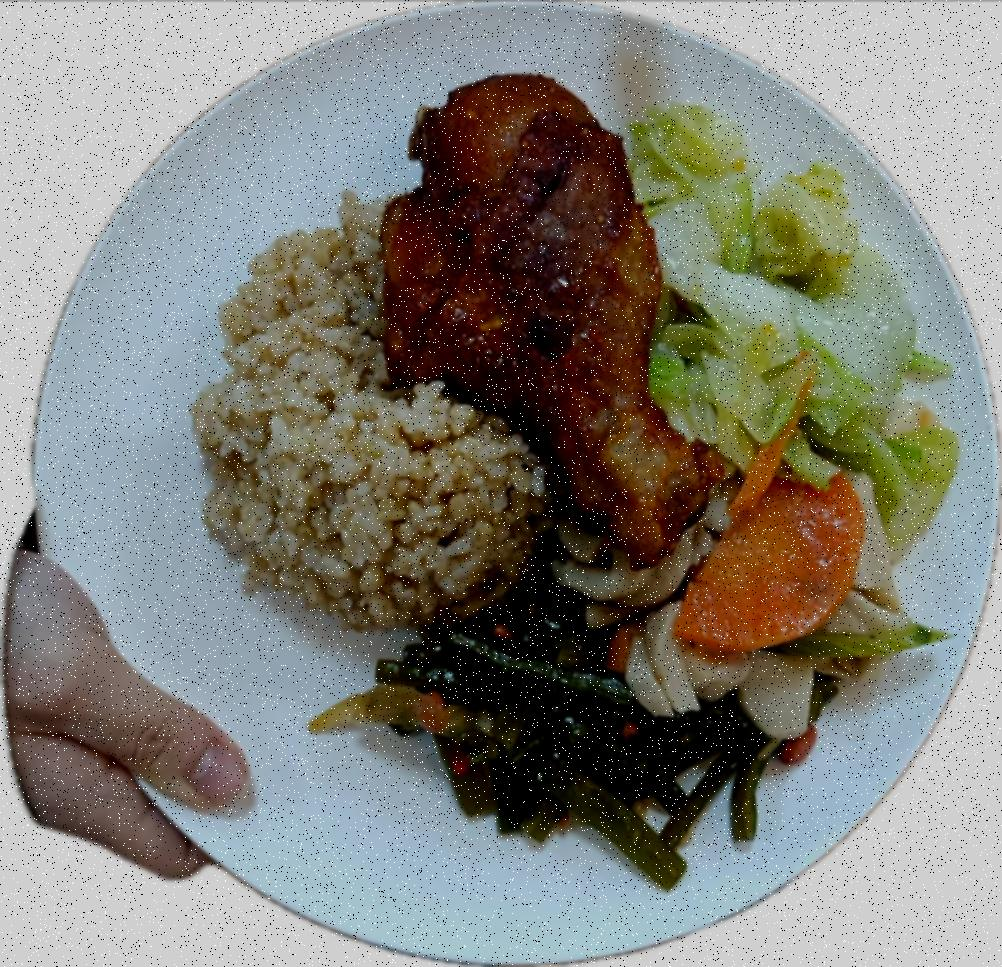big fried chicken leg: (0, 0, 1000, 967)
box: (195, 202, 542, 622)
braised fish fillet: (632, 88, 955, 538), (361, 604, 780, 889), (555, 456, 900, 737)
braised pork: (380, 56, 717, 560)
